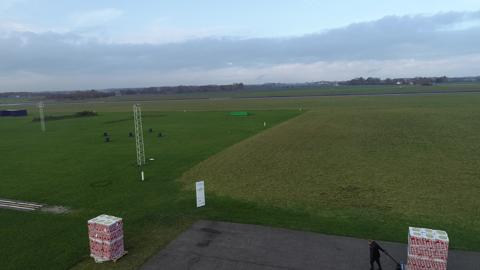RockwoolPallet: (90, 215, 128, 260)
